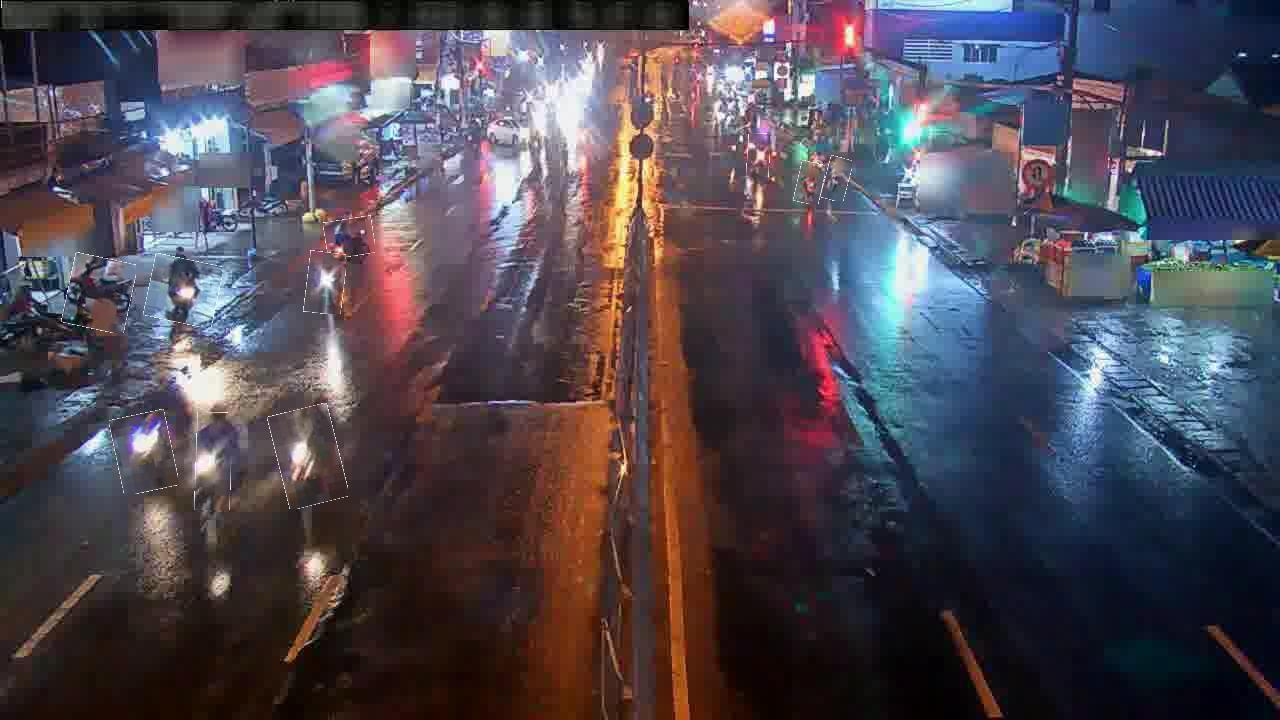motorbike: (273, 406, 344, 508), (65, 255, 134, 332), (146, 256, 221, 325), (113, 412, 176, 493), (195, 413, 232, 511), (305, 251, 346, 314), (325, 217, 375, 258), (823, 156, 851, 201), (795, 161, 824, 204), (747, 134, 771, 178)
